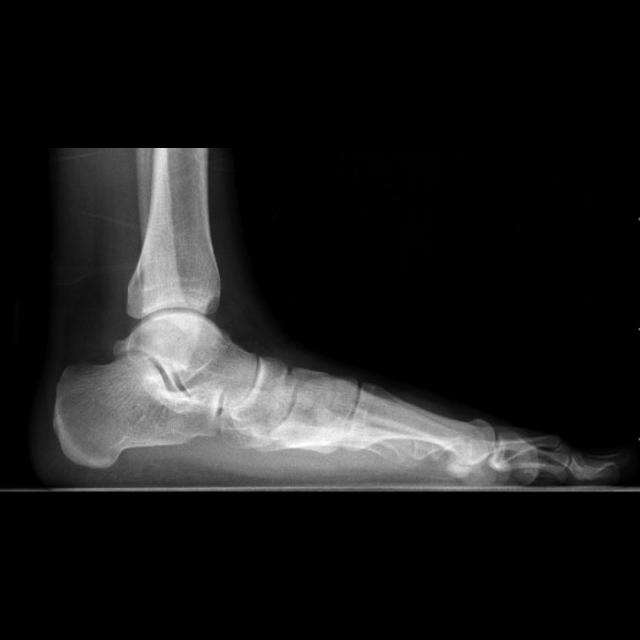a: (52, 353, 222, 468)
b: (235, 356, 291, 437)
c: (343, 388, 495, 465)
